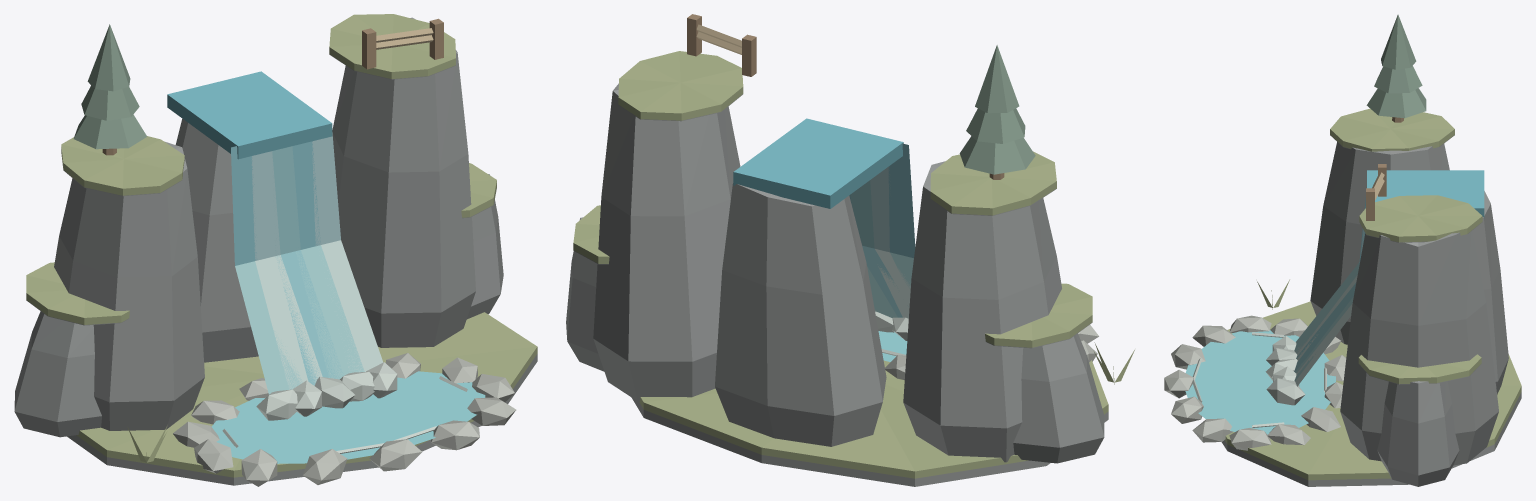
3 renders of one model, left to right at view 1: azimuth 30°, elevation 25°; view 2: azimuth 150°, elevation 25°; view 3: azimuth 270°, elevation 25°, orthographic. The views are drawn at different scales.
Parts seen in each view (by area): view 1: S05; view 2: S05; view 3: S05.
Part boxes in pixels (<box>): S05: <box>14,14,537,486</box>; S05: <box>566,14,1134,486</box>; S05: <box>1164,14,1521,486</box>.
Size of the model in its own units: 5.27 by 3.87 by 3.89.
